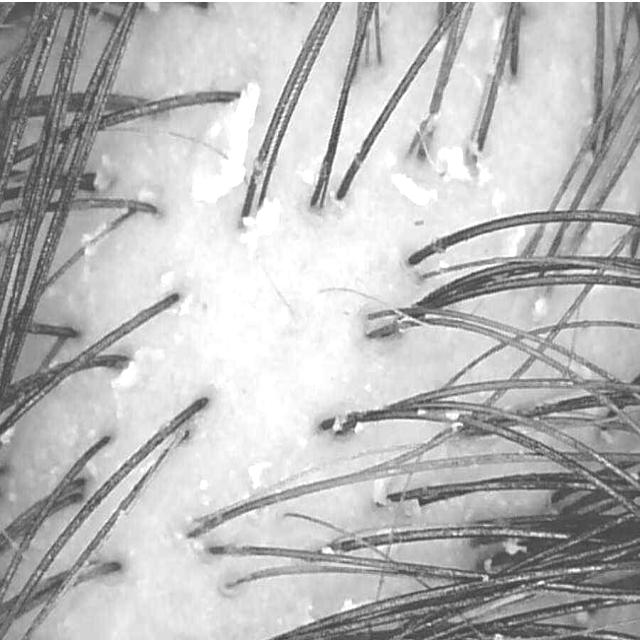d: (191, 82, 260, 202), (240, 198, 281, 244), (391, 173, 438, 206), (435, 146, 471, 180), (110, 358, 139, 398), (94, 155, 115, 192), (530, 290, 551, 322), (502, 538, 528, 555), (248, 463, 262, 489), (372, 480, 386, 505), (330, 414, 350, 431), (160, 270, 176, 287), (0, 426, 15, 443), (341, 598, 354, 610), (199, 479, 209, 489)
